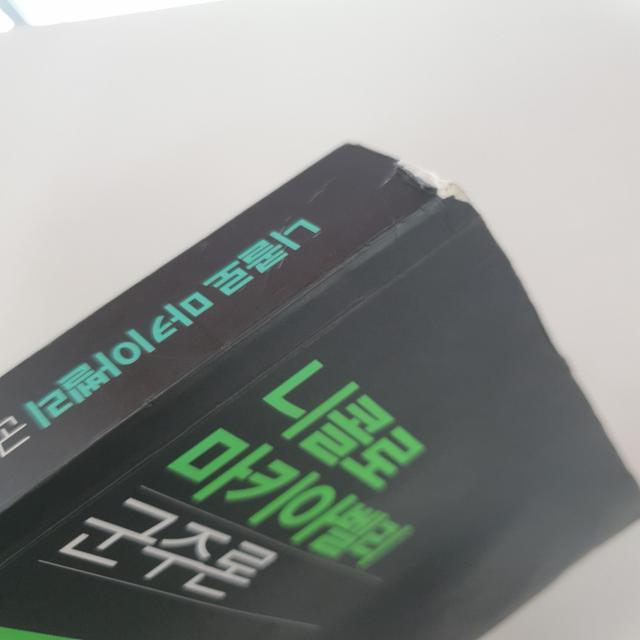Ripped: (367, 149, 482, 221)
